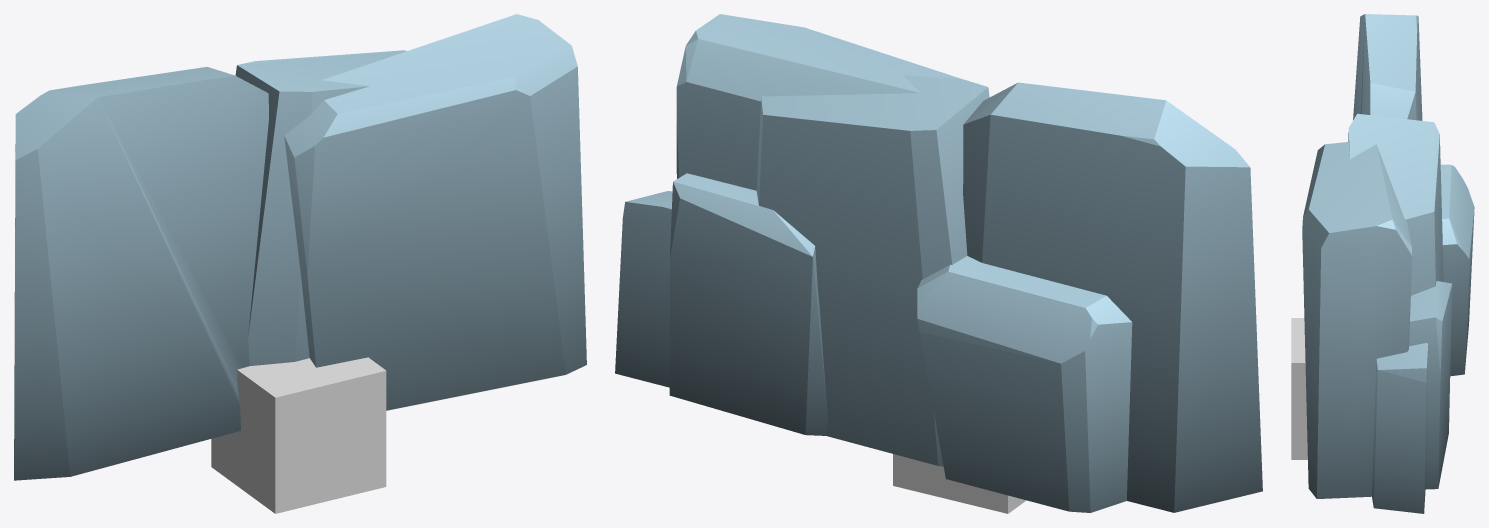
The model's file is Front-Cliff.fbx.
The picture shows the model from 3 angles, left to right: view 1: azimuth 30°, elevation 25°; view 2: azimuth 150°, elevation 25°; view 3: azimuth 270°, elevation 25°; orthographic projection. The views are drawn at different scales.
Visible parts, largest first — view 1: Baked_Rock_Front, Cube; view 2: Baked_Rock_Front, Cube; view 3: Baked_Rock_Front, Cube.
Part boxes in pixels (x1,y1,x2,y2): Baked_Rock_Front: (14, 14, 586, 480); Cube: (211, 357, 386, 513); Baked_Rock_Front: (615, 14, 1262, 512); Cube: (893, 454, 1026, 513); Baked_Rock_Front: (1302, 14, 1474, 513); Cube: (1291, 318, 1307, 459).
Bounding box in the file's own units: 1053 × 717 × 343.
